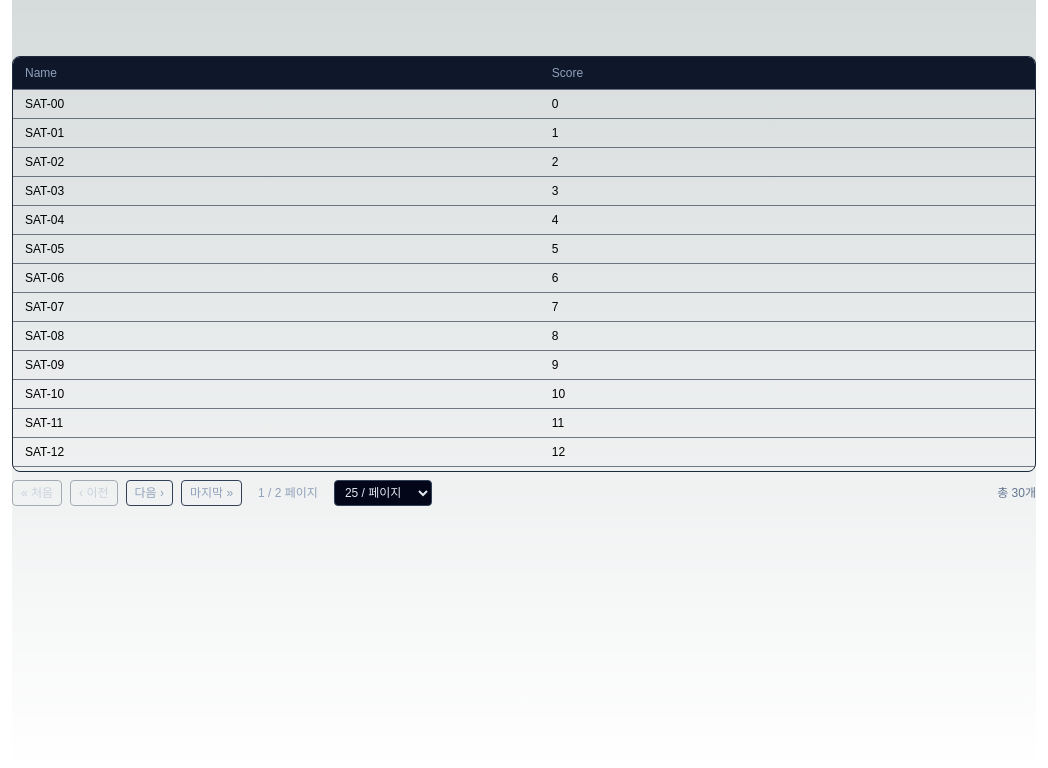
DataTable (client-side) › renders rows and paginates at pageSize
Expected: the text "SAT-00" is shown, [13,90,540,118]
Expected: the text "SAT-29" is not shown
Click the button "다음 ›" at (149, 493), box [126,480,173,506]
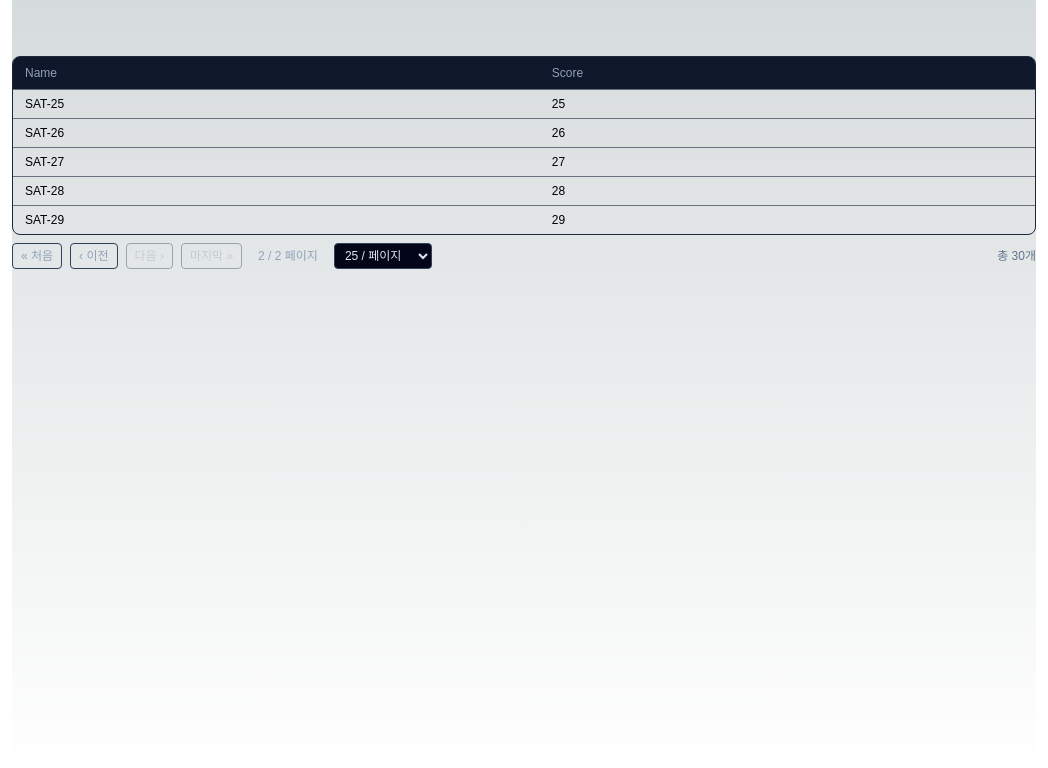
Expected: the text "SAT-29" is shown, [13,206,540,234]
Expected: the text "SAT-00" is gone
